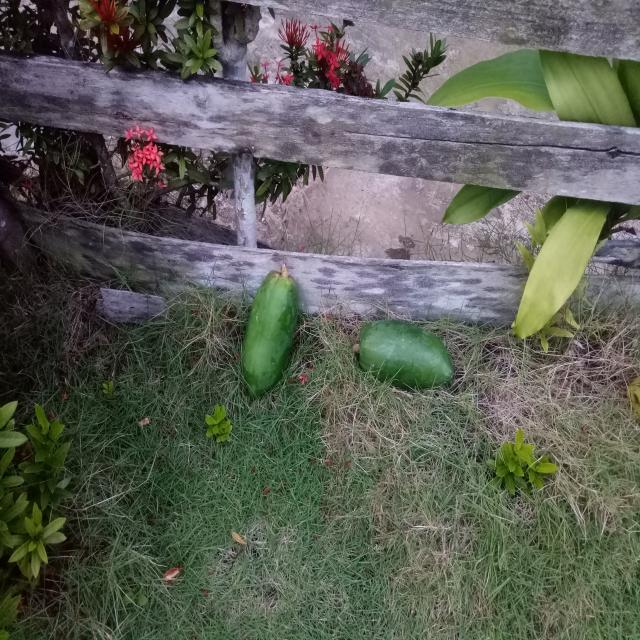Pepaya unrippen: (348, 312, 460, 401), (236, 267, 297, 402)
